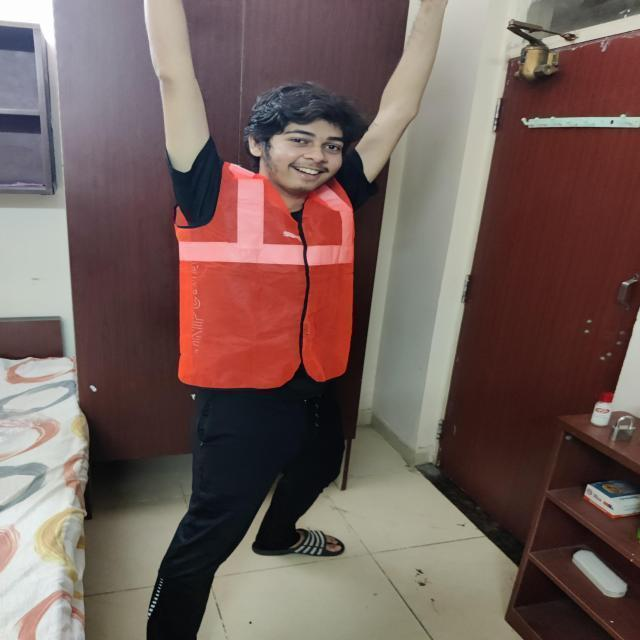no-helmet: (243, 81, 362, 144)
vest: (174, 157, 364, 393)
